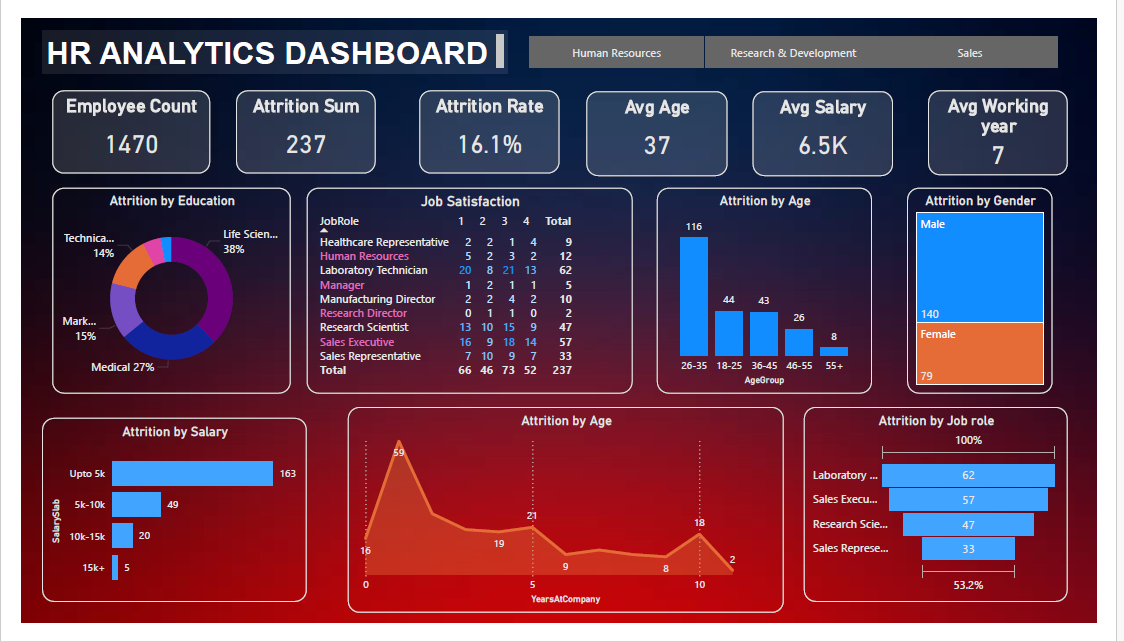

This screenshot's page, from the dashboard's own definition file:
{"tool":"powerbi","page":{"name":"Page 1","canvas":[1280,720],"ordinal":0},"visuals":[{"type":"card","title":"Employee Count","fields":{"Values":["Sum(HR_Analytics.EmployeeCount)"]},"box":[37,85.8,188.4,99.2],"z":0},{"type":"card","title":"Avg Salary","fields":{"Values":["Avg(HR_Analytics.MonthlyIncome)"]},"box":[871.3,87.5,166.5,100.9],"z":1000},{"type":"card","title":"Avg Age","fields":{"Values":["Avg(HR_Analytics.Age)"]},"box":[672.8,87.5,168.2,100.9],"z":2000},{"type":"card","title":"Attrition Rate","fields":{"Values":["HR_Analytics.AttritionRate"]},"box":[474.3,85.8,166.5,99.2],"z":3000},{"type":"card","title":"Attrition Sum","fields":{"Values":["Sum(HR_Analytics.Attrition_Count)"]},"box":[255.7,85.8,166.5,99.2],"z":4000},{"type":"card","title":"Avg Working year","fields":{"Values":["Avg(HR_Analytics.YearsAtCompany)"]},"box":[1079.8,85.8,166.5,100.9],"z":5000},{"type":"donutChart","title":"Attrition by Education","fields":{"Category":["HR_Analytics.EducationField"],"Y":["Sum(HR_Analytics.Attrition_Count)"]},"box":[37,201.8,284.3,245.6],"z":6000},{"type":"columnChart","title":"Attrition by Age","fields":{"Category":["HR_Analytics.AgeGroup"],"Y":["Sum(HR_Analytics.Attrition_Count)"]},"box":[756.9,201.8,255.7,245.6],"z":7000},{"type":"pivotTable","title":"Job Satisfaction","fields":{"Rows":["HR_Analytics.JobRole"],"Columns":["HR_Analytics.JobSatisfaction"],"Values":["Sum(HR_Analytics.Attrition_Count)"]},"box":[339.8,201.8,388.5,245.6],"z":8000},{"type":"barChart","title":"Attrition by Salary","fields":{"Category":["HR_Analytics.SalarySlab"],"Y":["Sum(HR_Analytics.Attrition_Count)"]},"box":[25.2,476,314.5,218.7],"z":9000},{"type":"funnel","title":"Attrition by Job role","fields":{"Category":["HR_Analytics.JobRole"],"Y":["Sum(HR_Analytics.Attrition_Count)"]},"box":[931.8,462.5,314.5,232.1],"z":10000},{"type":"areaChart","title":"Attrition by Age","fields":{"Category":["HR_Analytics.YearsAtCompany"],"Y":["Sum(HR_Analytics.Attrition_Count)"]},"box":[388.5,462.5,519.7,245.6],"z":11000},{"type":"treemap","title":"Attrition by Gender","fields":{"Values":["Sum(HR_Analytics.Attrition_Count)"],"Group":["HR_Analytics.Gender"]},"box":[1054.6,201.8,173.2,245.6],"z":12000},{"type":"slicer","fields":{"Values":["HR_Analytics.Department"]},"box":[578.6,15.1,679.5,50.5],"z":13000},{"type":"textbox","box":[25.2,15.1,553.4,50.5],"z":14000}]}

Visuals, with their boxes in screenshot pixels (x1, y1, x2, y2), scaled from the page's 1280x720 canvas onto the 1124x641 screenshot:
"Employee Count" card: x1=32, y1=76, x2=198, y2=165
"Avg Salary" card: x1=765, y1=78, x2=911, y2=168
"Avg Age" card: x1=591, y1=78, x2=739, y2=168
"Attrition Rate" card: x1=416, y1=76, x2=563, y2=165
"Attrition Sum" card: x1=225, y1=76, x2=371, y2=165
"Avg Working year" card: x1=948, y1=76, x2=1094, y2=166
"Attrition by Education" donutChart: x1=32, y1=180, x2=282, y2=398
"Attrition by Age" columnChart: x1=665, y1=180, x2=889, y2=398
"Job Satisfaction" pivotTable: x1=298, y1=180, x2=640, y2=398
"Attrition by Salary" barChart: x1=22, y1=424, x2=298, y2=618
"Attrition by Job role" funnel: x1=818, y1=412, x2=1094, y2=618
"Attrition by Age" areaChart: x1=341, y1=412, x2=798, y2=630
"Attrition by Gender" treemap: x1=926, y1=180, x2=1078, y2=398
slicer - HR_Analytics.Department: x1=508, y1=13, x2=1105, y2=58
textbox: x1=22, y1=13, x2=508, y2=58
